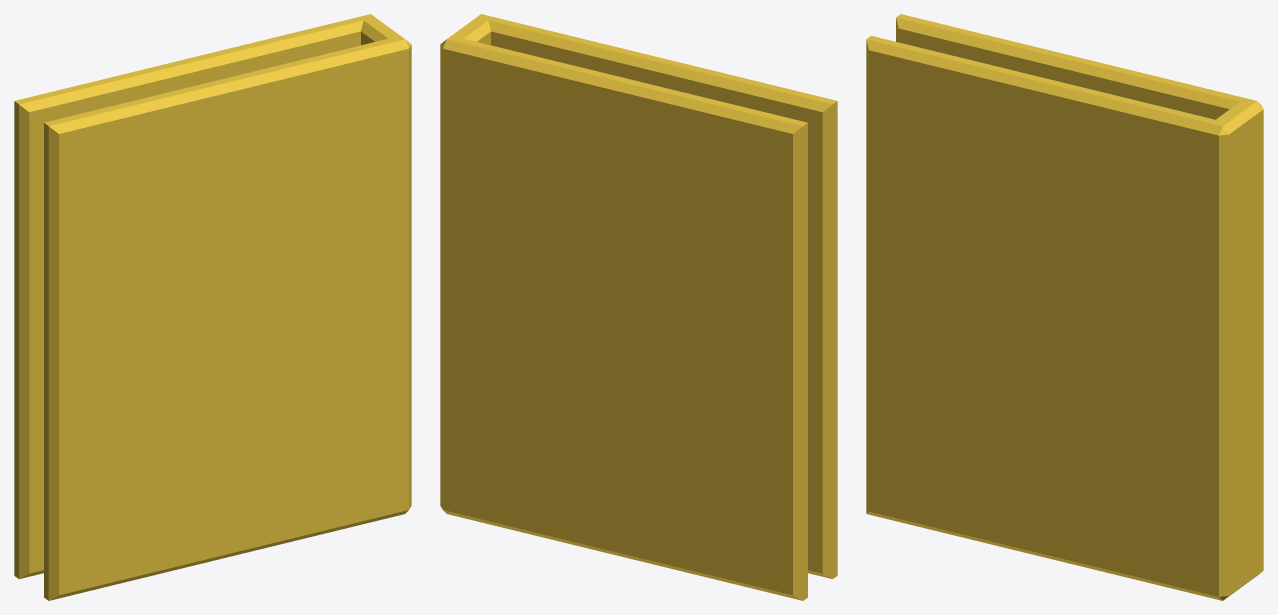
Rendered from BookSkinnyBlockout_RB.fbx.
The picture shows the model from 3 angles, left to right: view 1: azimuth 30°, elevation 25°; view 2: azimuth 150°, elevation 25°; view 3: azimuth 330°, elevation 25°; orthographic projection.
Visible parts, largest first — view 1: BookSkinnyBlockout_RB; view 2: BookSkinnyBlockout_RB; view 3: BookSkinnyBlockout_RB.
Boxes of the visible parts, box(x1,y1,x2,y2) form: BookSkinnyBlockout_RB: box(14, 14, 411, 600); BookSkinnyBlockout_RB: box(440, 14, 837, 600); BookSkinnyBlockout_RB: box(866, 14, 1263, 600).
Bounding box in the file's own units: 1 × 1.25 × 0.2.
